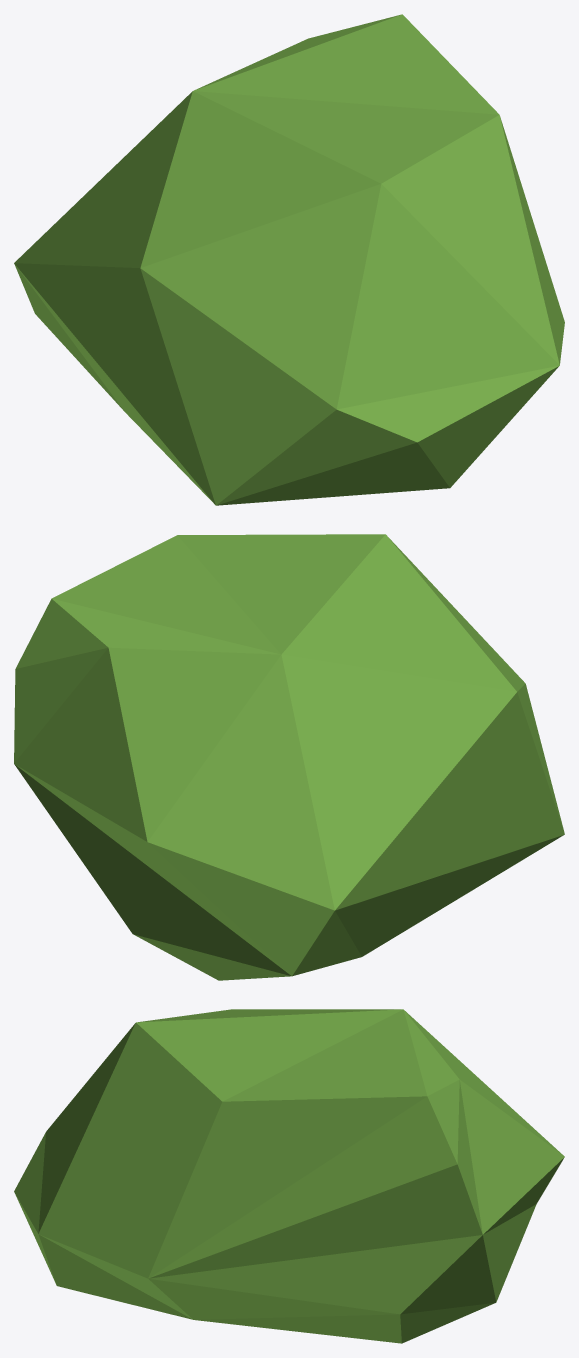
The model's file is Bush_03.fbx.
The picture shows the model from 3 angles, top to bottom: view 1: azimuth 30°, elevation 25°; view 2: azimuth 150°, elevation 25°; view 3: azimuth 270°, elevation 25°; orthographic projection. The views are drawn at different scales.
Parts seen in each view (by area): view 1: Cube; view 2: Cube; view 3: Cube.
Part boxes in pixels (x1,y1,x2,y2): Cube: (14,14,564,505); Cube: (14,534,564,980); Cube: (14,1009,564,1343).
Bounding box in the file's own units: 42.34 × 32.93 × 57.11.
